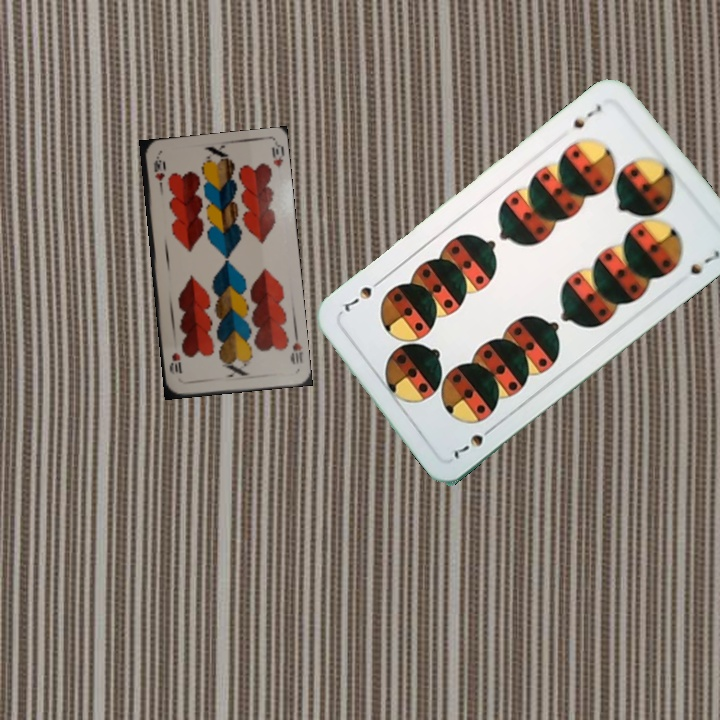H10: (286, 329, 305, 367), (150, 154, 166, 194)
S7: (447, 421, 498, 463), (569, 101, 604, 131)
